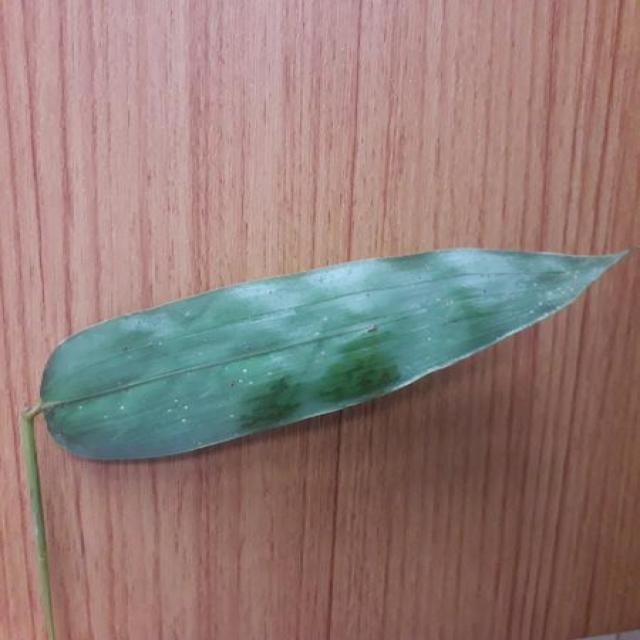Bamboo: (40, 249, 627, 458)
